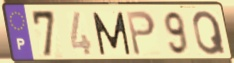4: (69, 10, 94, 57)
7: (30, 9, 58, 60)
9: (162, 10, 190, 57)
M: (90, 10, 133, 57)
P: (124, 10, 157, 58)
Q: (191, 9, 228, 57)
